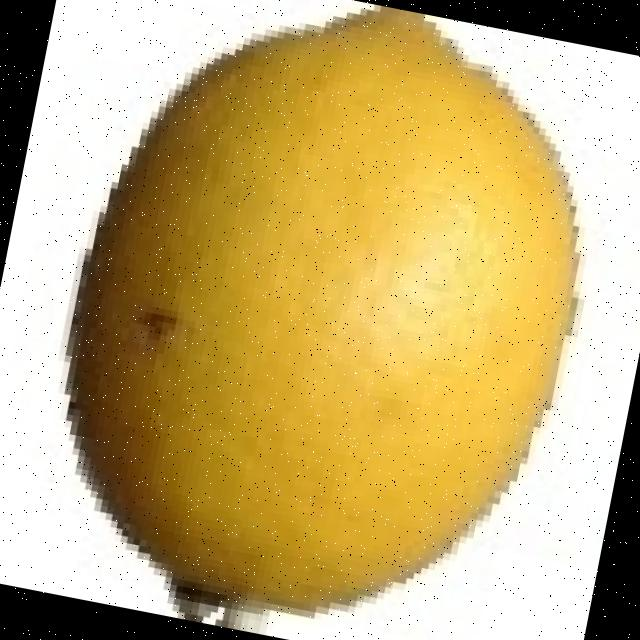lemon: (71, 6, 577, 622)
